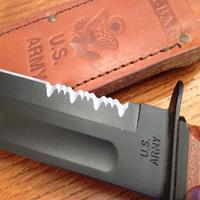knife: (1, 66, 196, 200)
